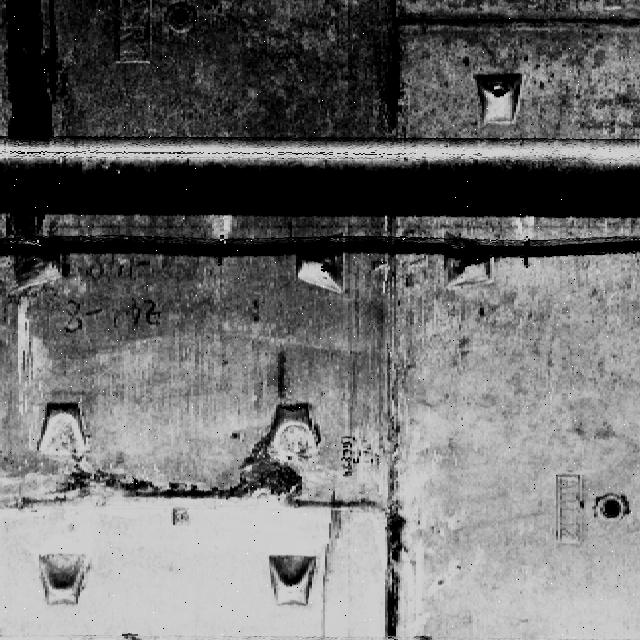leakage: (1, 1, 80, 285), (371, 479, 414, 640), (379, 1, 413, 141)
